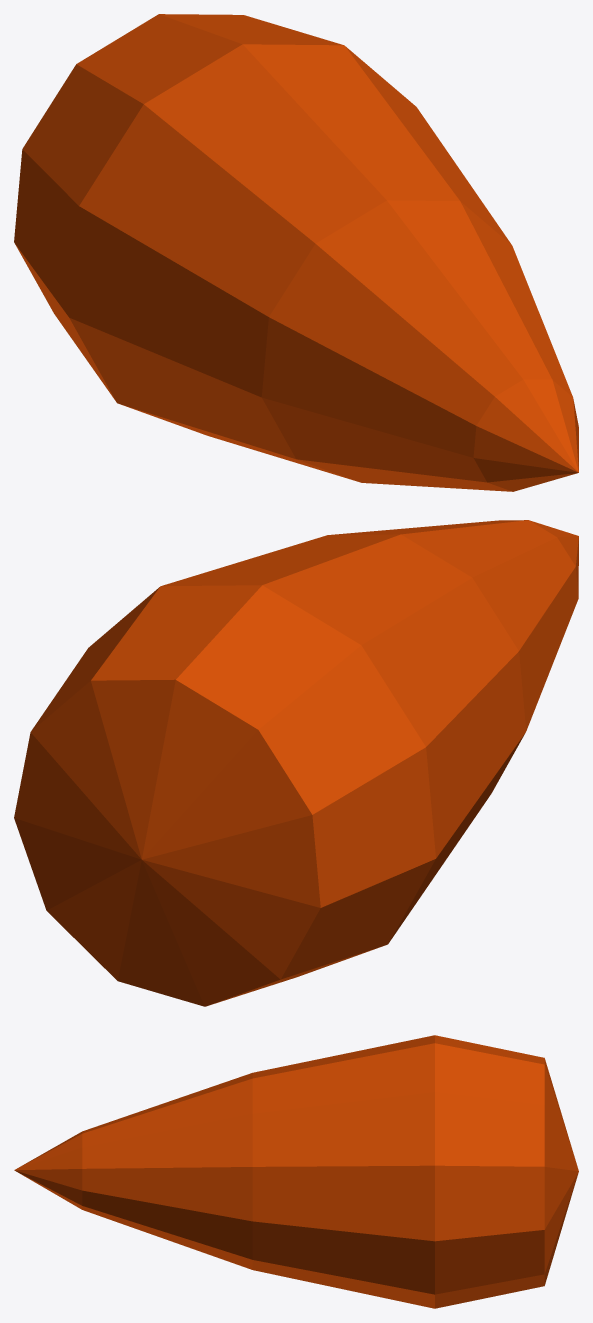
File: tx_taoist_huoyanzhendang_hit_01.obj
The picture shows the model from 3 angles, top to bottom: view 1: azimuth 30°, elevation 25°; view 2: azimuth 150°, elevation 25°; view 3: azimuth 270°, elevation 25°; orthographic projection. The views are drawn at different scales.
Visible parts, largest first — view 1: Sphere01#2; view 2: Sphere01#2; view 3: Sphere01#2.
Part boxes in pixels (left/top/right/bottom): Sphere01#2: left=14, top=14, right=578, bottom=491; Sphere01#2: left=14, top=520, right=578, bottom=1006; Sphere01#2: left=14, top=1035, right=578, bottom=1308.
Bounding box in the file's own units: 85.94 × 85.65 × 178.
1 material, 1 textured.
